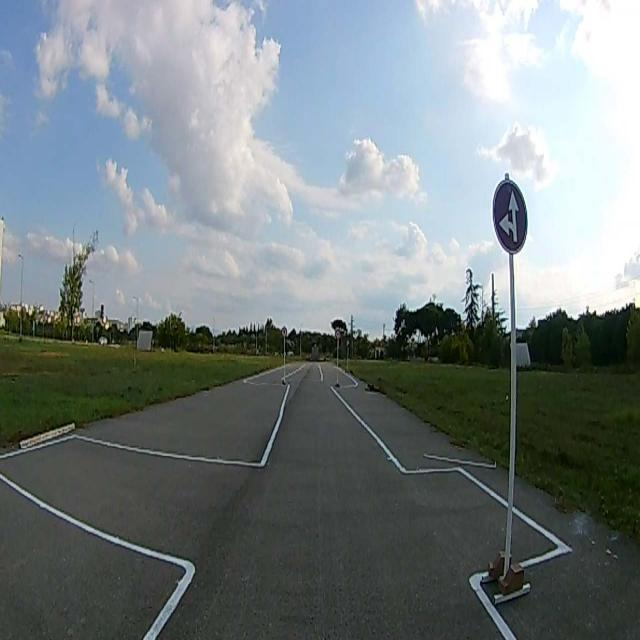ilerisol: (492, 180, 530, 248)
